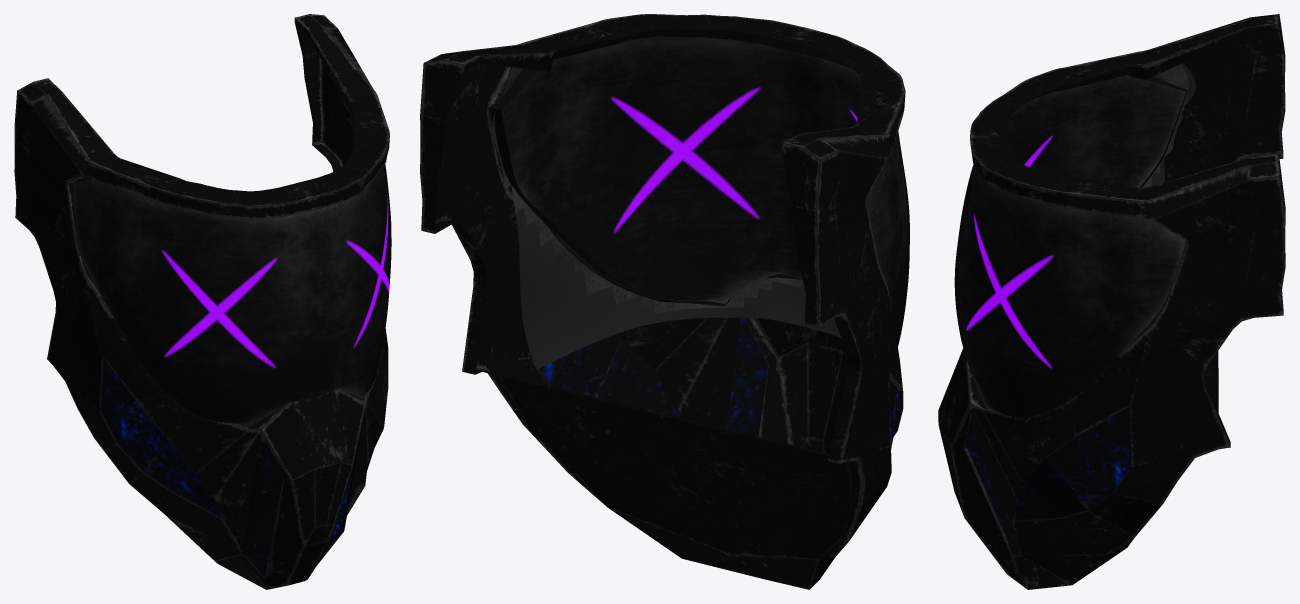
File: cyberpunk_stylized_mask.glb
3 views of the same model, side by side, from view 1: azimuth 30°, elevation 25°; view 2: azimuth 150°, elevation 25°; view 3: azimuth 270°, elevation 25° (orthographic). The views are drawn at different scales.
Visible parts, largest first — view 1: Mask3; view 2: Mask3; view 3: Mask3.
Boxes of the visible parts, left/top/right/bottom form: Mask3: left=14, top=14, right=391, bottom=589; Mask3: left=420, top=14, right=909, bottom=589; Mask3: left=938, top=14, right=1285, bottom=589.
Size of the model in its own units: 1.16 by 1.63 by 1.05.
Materials: 1 (1 with a texture image).
